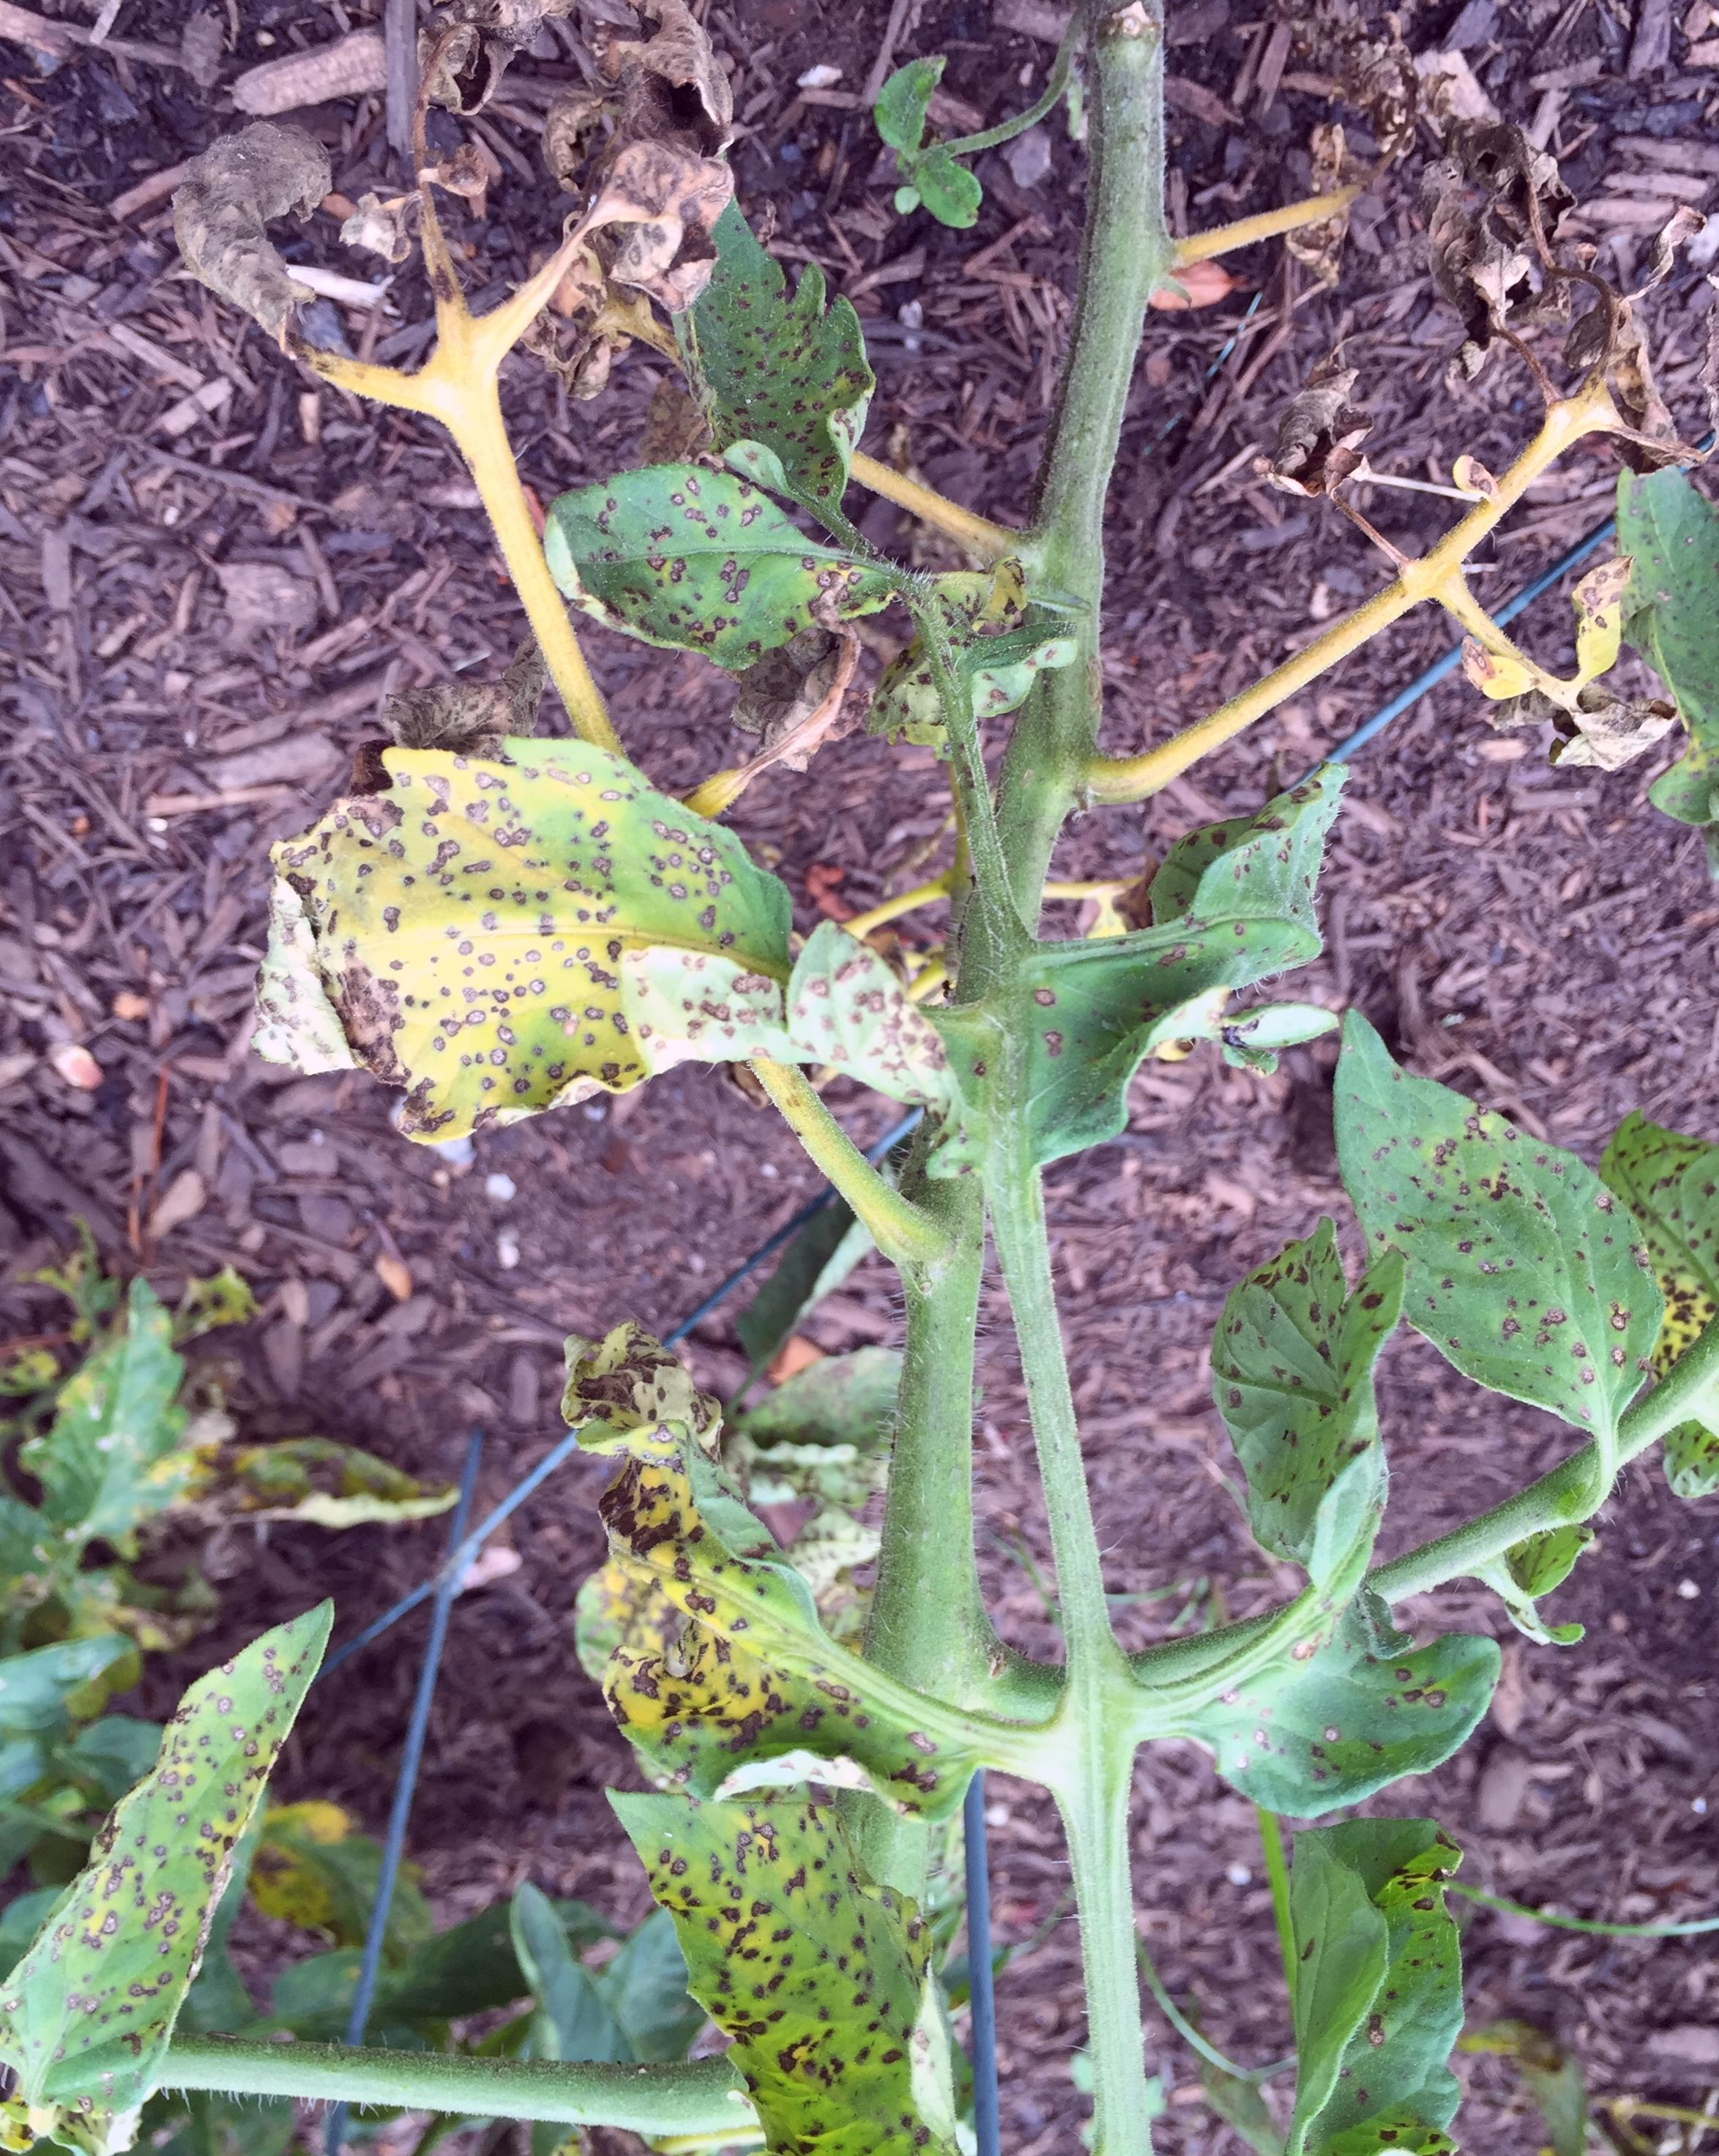Tomato Septoria leaf spot: (144, 710, 1028, 1140), (546, 1314, 1002, 1805), (588, 1777, 1066, 2156), (0, 1603, 340, 2130), (1298, 988, 1694, 1437), (998, 747, 1342, 1182), (660, 184, 961, 514), (477, 447, 895, 677), (1186, 1223, 1424, 1607)
